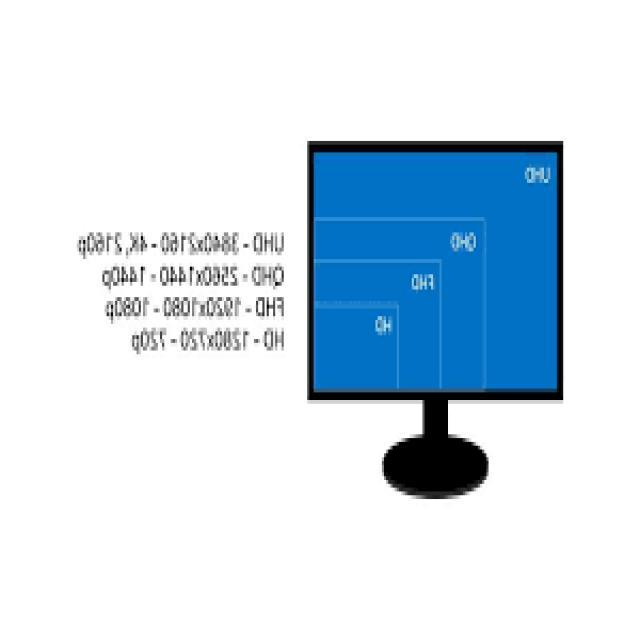monitor: (288, 105, 591, 518)
